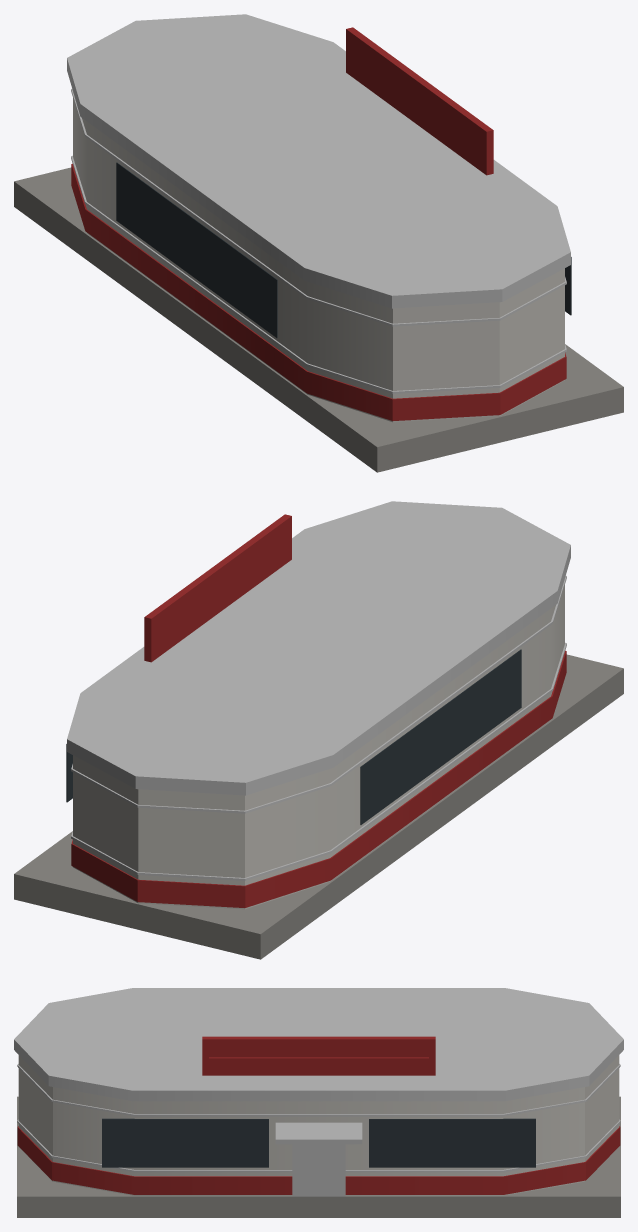
File: SM_Prop_cafe_building_16_LOD2.glb
The picture shows the model from 3 angles, top to bottom: view 1: azimuth 30°, elevation 25°; view 2: azimuth 150°, elevation 25°; view 3: azimuth 270°, elevation 25°; orthographic projection. The views are drawn at different scales.
Visible parts, largest first — view 1: SM_Prop_cafe_building_16_LOD2; view 2: SM_Prop_cafe_building_16_LOD2; view 3: SM_Prop_cafe_building_16_LOD2.
Boxes of the visible parts, x1,y1,x2,y2 form: SM_Prop_cafe_building_16_LOD2: (14,14,623,472); SM_Prop_cafe_building_16_LOD2: (14,501,623,959); SM_Prop_cafe_building_16_LOD2: (14,988,623,1217).
Bounding box in the file's own units: 8.34 × 5.65 × 18.28.
